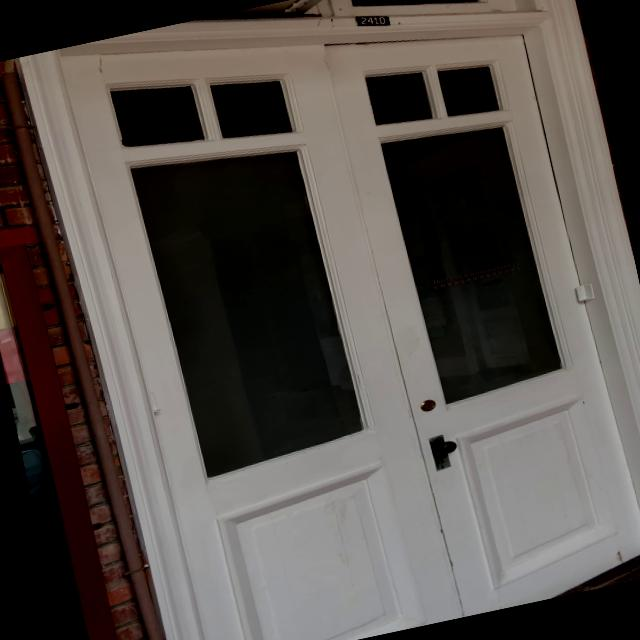room241d: (351, 6, 391, 32)
